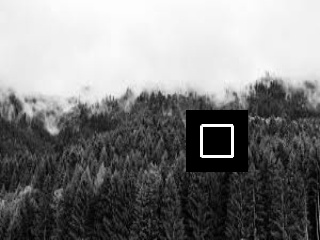square: (186, 110, 248, 172)
